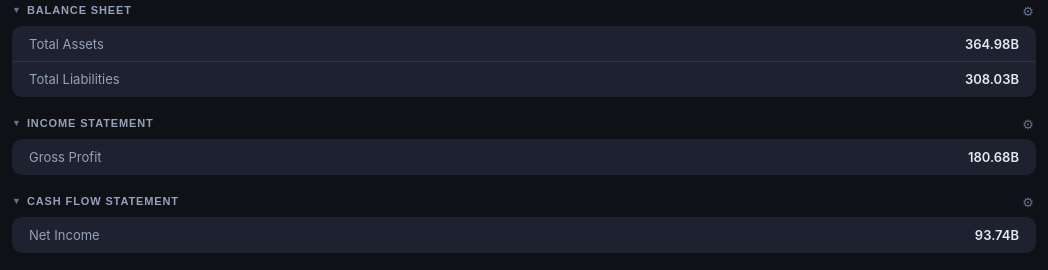
Test: ReportedFinancials › re-expands a section when clicked again
Click the button with aria-label "Toggle Balance Sheet" at (79, 10), box [12,4,1020,16]
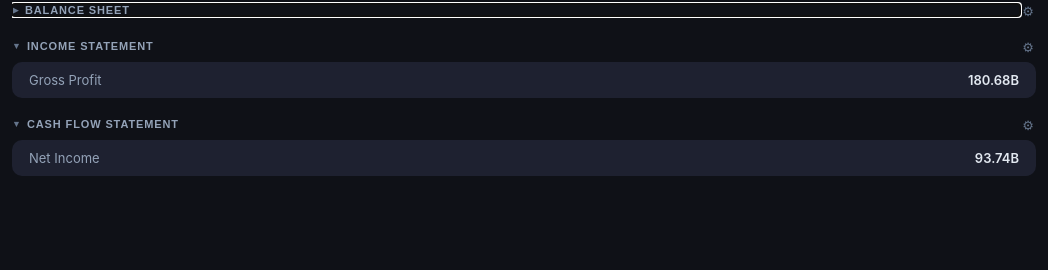
Click the button with aria-label "Toggle Balance Sheet" at (77, 10), box [12,4,1020,16]
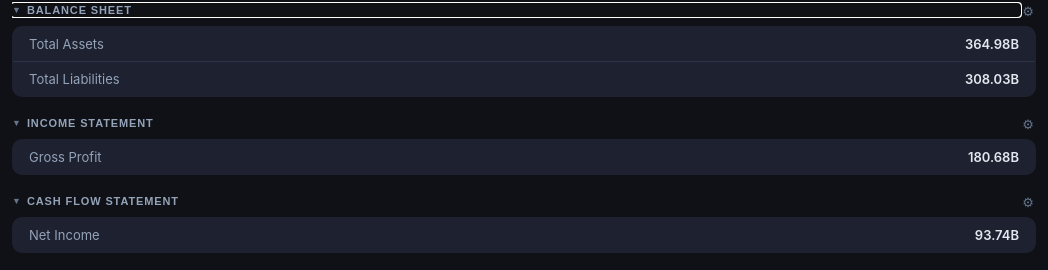
Expected: the text "Total Assets" is shown, [12,26,575,62]
